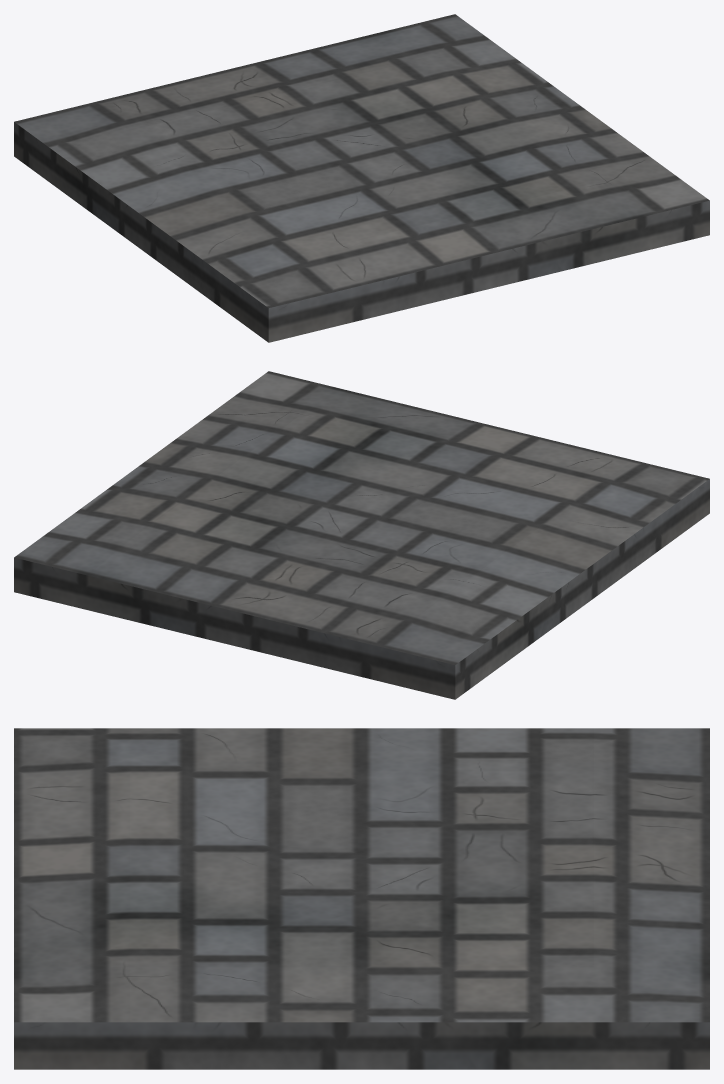
Rendered from kit_floor.glb.
The picture shows the model from 3 angles, top to bottom: view 1: azimuth 30°, elevation 25°; view 2: azimuth 150°, elevation 25°; view 3: azimuth 270°, elevation 25°; orthographic projection. The views are drawn at different scales.
Visible parts, largest first — view 1: kit_floor; view 2: kit_floor; view 3: kit_floor.
Part boxes in pixels (x1,y1,x2,y2): kit_floor: (14, 14, 709, 342); kit_floor: (14, 371, 709, 699); kit_floor: (14, 728, 709, 1069).
Bounding box in the file's own units: 2.8 × 0.2367 × 2.8.
Materials: 1 (1 with a texture image).
